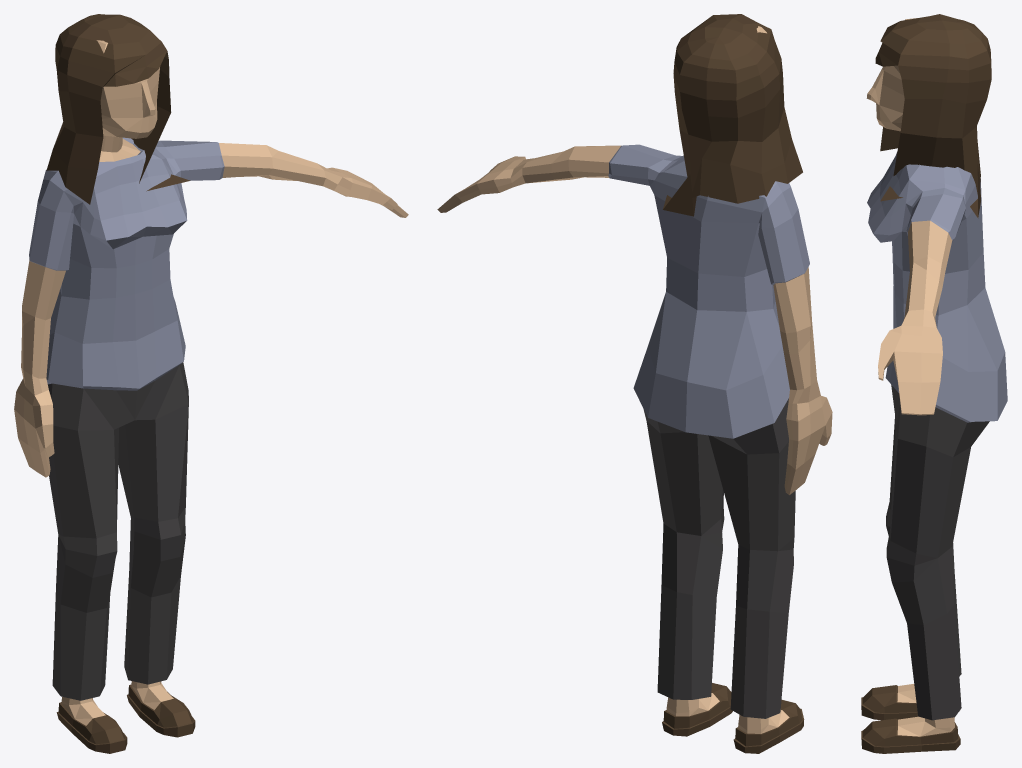
The model's file is Female_Crowd_ArmAround.glb.
3 views of the same model, side by side, from view 1: azimuth 30°, elevation 25°; view 2: azimuth 150°, elevation 25°; view 3: azimuth 270°, elevation 25° (orthographic). The views are drawn at different scales.
Parts seen in each view (by area): view 1: Female_Crowd_ArmAround; view 2: Female_Crowd_ArmAround; view 3: Female_Crowd_ArmAround.
Boxes of the visible parts, bbox=[...] form: Female_Crowd_ArmAround: bbox=[14, 14, 408, 753]; Female_Crowd_ArmAround: bbox=[437, 14, 832, 753]; Female_Crowd_ArmAround: bbox=[861, 14, 1007, 753].
Bounding box in the file's own units: 0.9241 × 1.67 × 0.3136.
